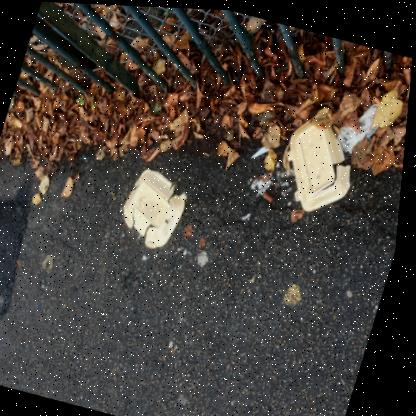Waste: (288, 113, 352, 208), (126, 167, 189, 246), (338, 100, 379, 150)
